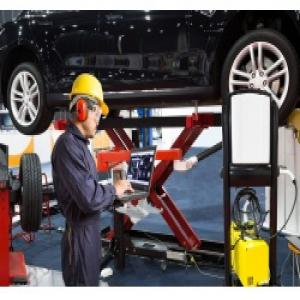yellow: (69, 74, 106, 141)
